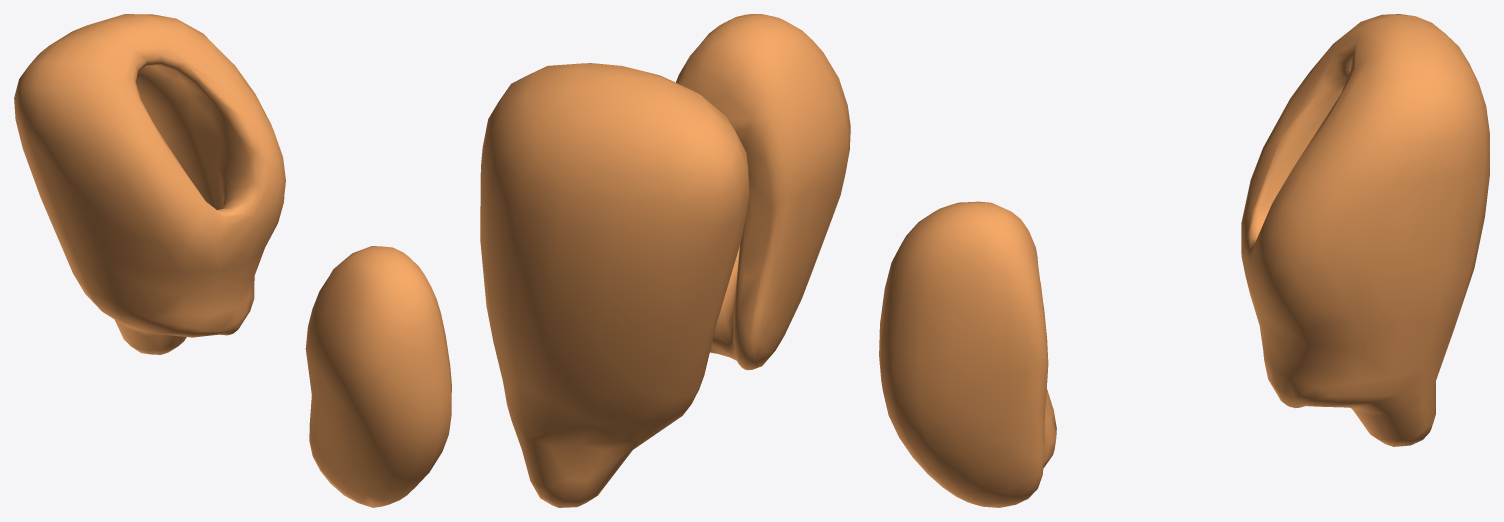
Rendered from Ventral&DorsalPancreas.fbx.
3 views of the same model, side by side, from view 1: azimuth 30°, elevation 25°; view 2: azimuth 150°, elevation 25°; view 3: azimuth 270°, elevation 25° (orthographic). The views are drawn at different scales.
Visible parts, largest first — view 1: Ventral_pancreas, Dorsal_pancreas; view 2: Ventral_pancreas, Dorsal_pancreas; view 3: Ventral_pancreas, Dorsal_pancreas.
Part boxes in pixels (x1,y1,x2,y2): Ventral_pancreas: (14, 14, 285, 354); Dorsal_pancreas: (305, 246, 451, 507); Ventral_pancreas: (480, 63, 749, 507); Dorsal_pancreas: (676, 14, 850, 370); Ventral_pancreas: (1241, 14, 1489, 446); Dorsal_pancreas: (879, 201, 1056, 507).
Size of the model in its own units: 2.07 by 3.2 by 4.15.
